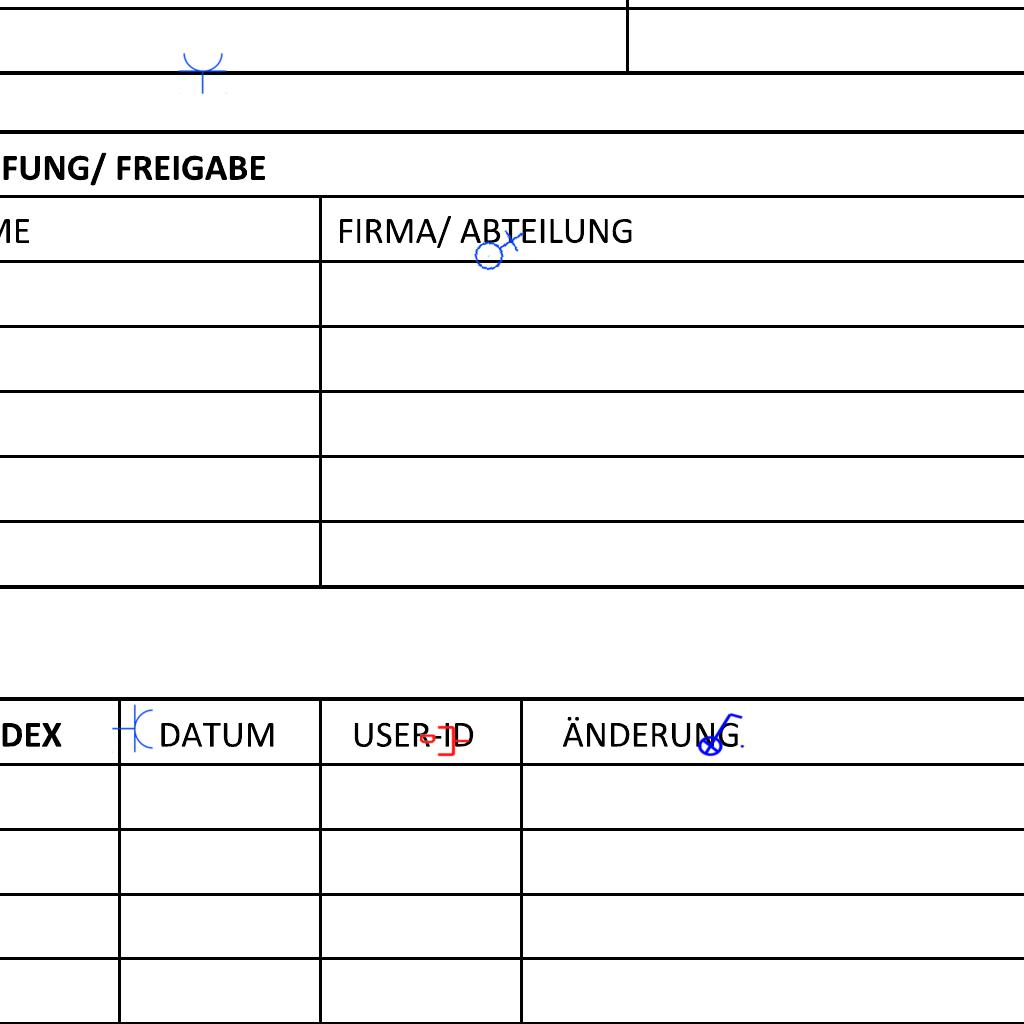Ausschalter_beleuchtet: (691, 709, 747, 757)
Datenanschluss_einfach: (420, 724, 470, 758)
Elektroanschluss_allgemein_230V_Geraeteanschlussdose_230V: (467, 220, 526, 277)
Schukosteckdose_einfach: (178, 51, 228, 94), (112, 704, 155, 754)
